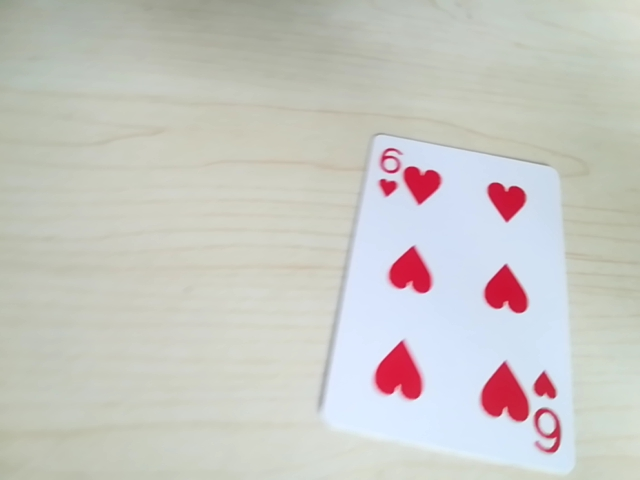hx 6: (374, 137, 418, 197), (527, 397, 567, 462)
